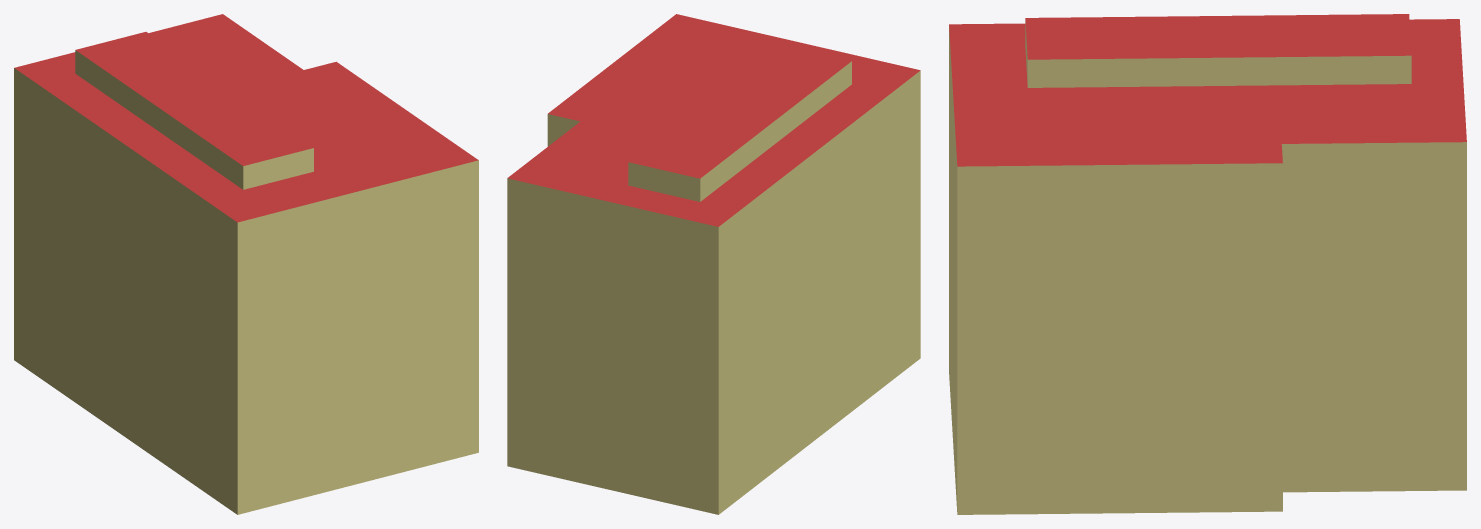
3 views of the same model, side by side, from view 1: azimuth 30°, elevation 25°; view 2: azimuth 150°, elevation 25°; view 3: azimuth 270°, elevation 25° (orthographic). The views are drawn at different scales.
Bounding box in the file's own units: 7.44 × 11.03 × 8.85.
